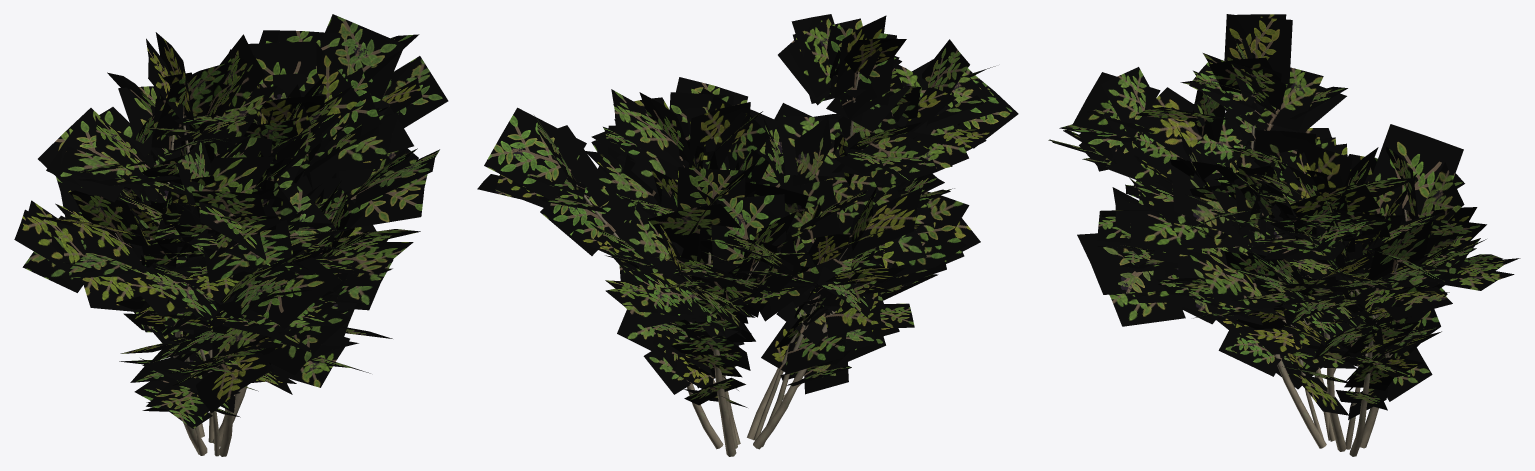
The model's file is bez_cerny_1.glb.
3 views of the same model, side by side, from view 1: azimuth 30°, elevation 25°; view 2: azimuth 150°, elevation 25°; view 3: azimuth 270°, elevation 25° (orthographic). The views are drawn at different scales.
Visible parts, largest first — view 1: bez_cerny_1; view 2: bez_cerny_1; view 3: bez_cerny_1.
Boxes of the visible parts, bbox=[...] form: bez_cerny_1: bbox=[14, 14, 448, 456]; bez_cerny_1: bbox=[477, 14, 1018, 456]; bez_cerny_1: bbox=[1048, 14, 1520, 456].
Bounding box in the file's own units: 3.88 × 3.89 × 4.23.
Materials: 2 (2 with a texture image).
